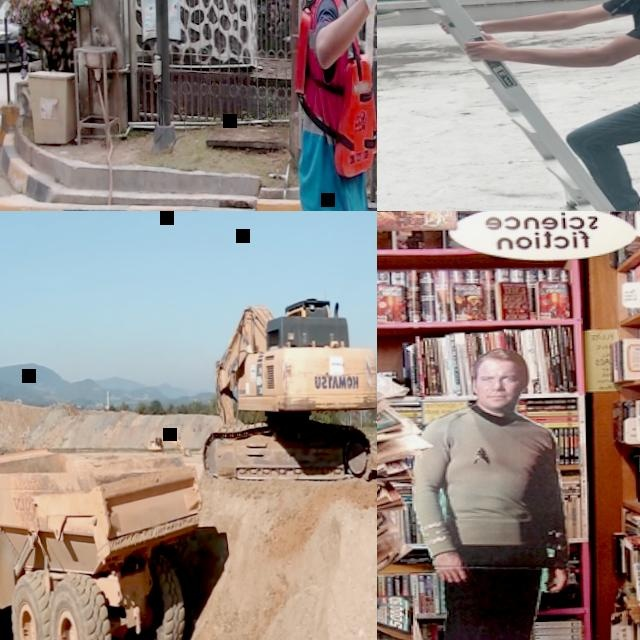Person: (435, 0, 640, 211), (286, 0, 377, 211)
Safety Vest: (290, 0, 377, 177)
machinery: (0, 445, 206, 640), (198, 292, 377, 482), (147, 432, 186, 452)
vehicle: (0, 0, 26, 78)
